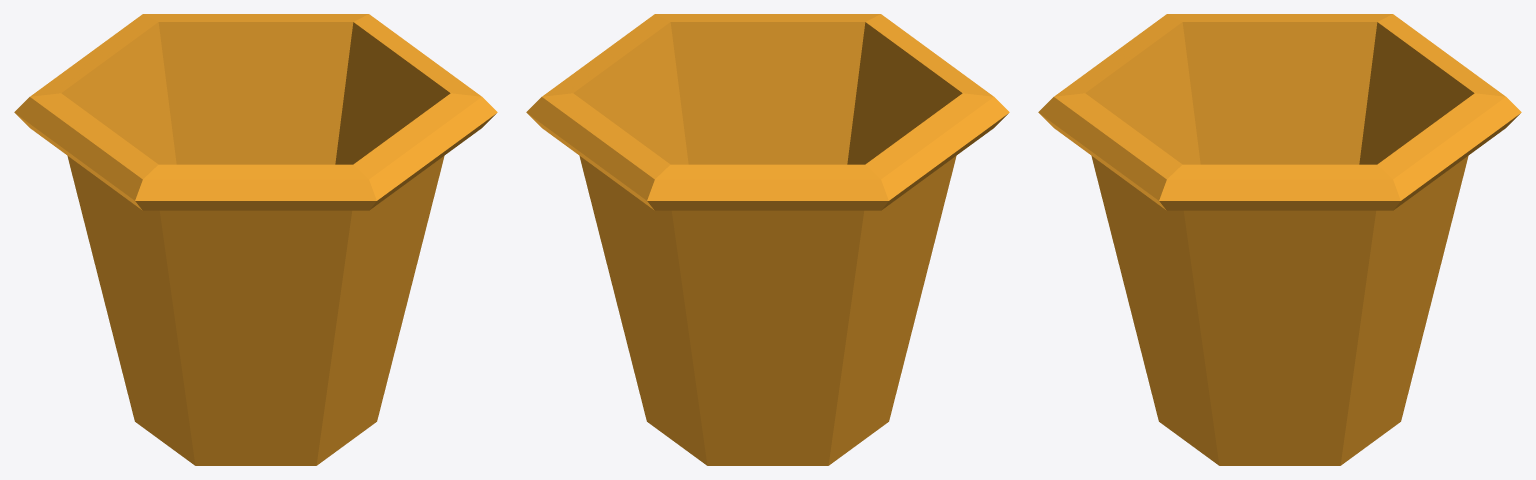
The model's file is SM_Pot_Clay_Small_B.fbx.
The picture shows the model from 3 angles, left to right: view 1: azimuth 30°, elevation 25°; view 2: azimuth 150°, elevation 25°; view 3: azimuth 270°, elevation 25°; orthographic projection.
Visible parts, largest first — view 1: pot-clay-small-b; view 2: pot-clay-small-b; view 3: pot-clay-small-b.
Part boxes in pixels (bbox=[...]): pot-clay-small-b: bbox=[14, 14, 497, 465]; pot-clay-small-b: bbox=[526, 14, 1009, 465]; pot-clay-small-b: bbox=[1038, 14, 1521, 465].
Size of the model in its own units: 0.1246 by 0.1087 by 0.1438.
